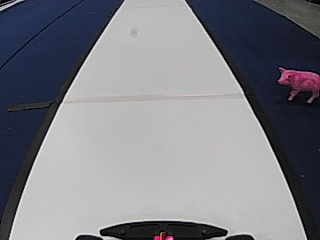pig: (273, 64, 320, 103)
